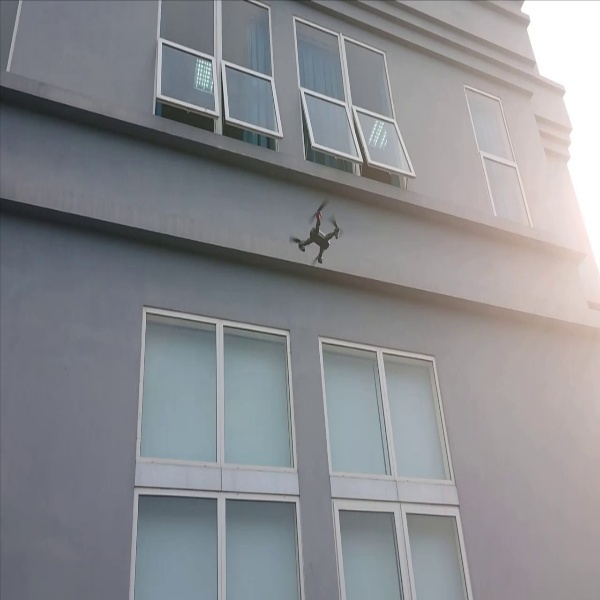drone: (285, 191, 352, 281)
